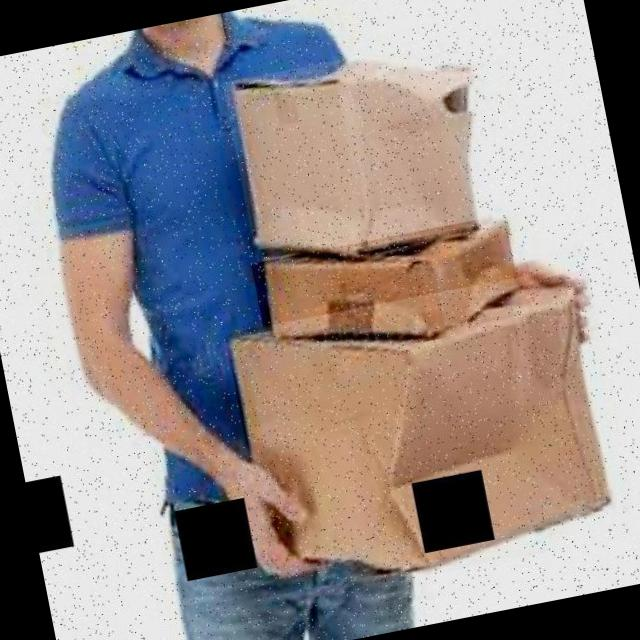box: (225, 266, 623, 595), (222, 35, 506, 278), (251, 212, 538, 366)
